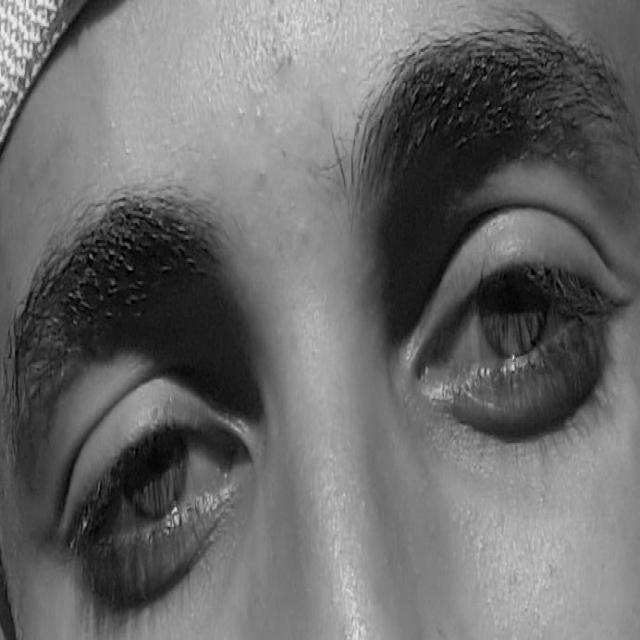real: (3, 123, 625, 588)
